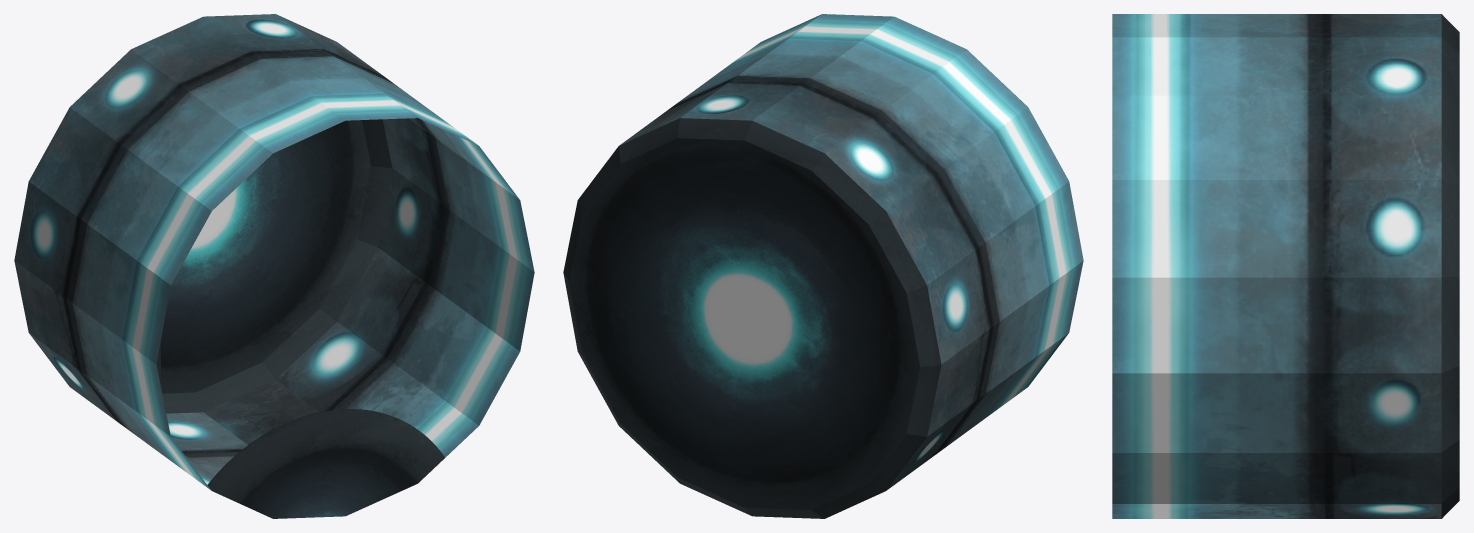
File: PifPaf.fbx
3 renders of one model, left to right at view 1: azimuth 30°, elevation 25°; view 2: azimuth 150°, elevation 25°; view 3: azimuth 270°, elevation 25°, orthographic. The views are drawn at different scales.
Visible parts, largest first — view 1: Cylinder; view 2: Cylinder; view 3: Cylinder.
Part boxes in pixels (left/top/right/bottom): Cylinder: left=14, top=14, right=534, bottom=518; Cylinder: left=563, top=14, right=1083, bottom=518; Cylinder: left=1112, top=14, right=1459, bottom=518.
Bounding box in the file's own units: 200 × 200 × 137.
